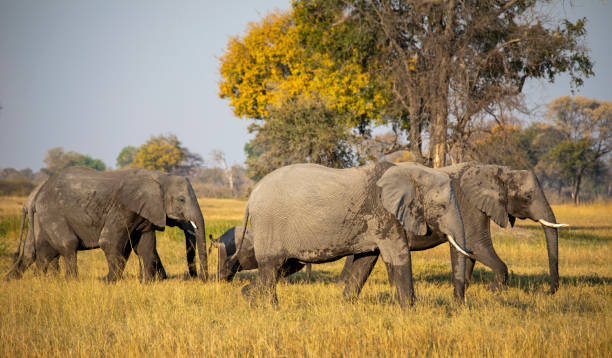africanelephant: (379, 168, 471, 255)
